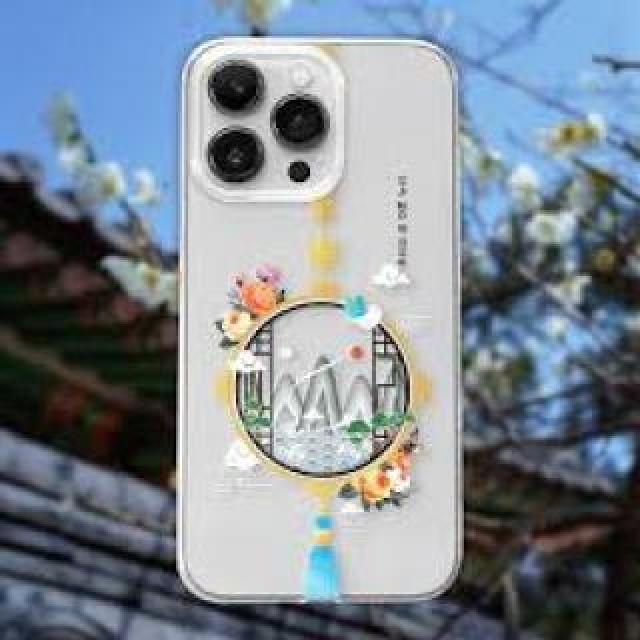smart phone: (177, 13, 470, 635)
